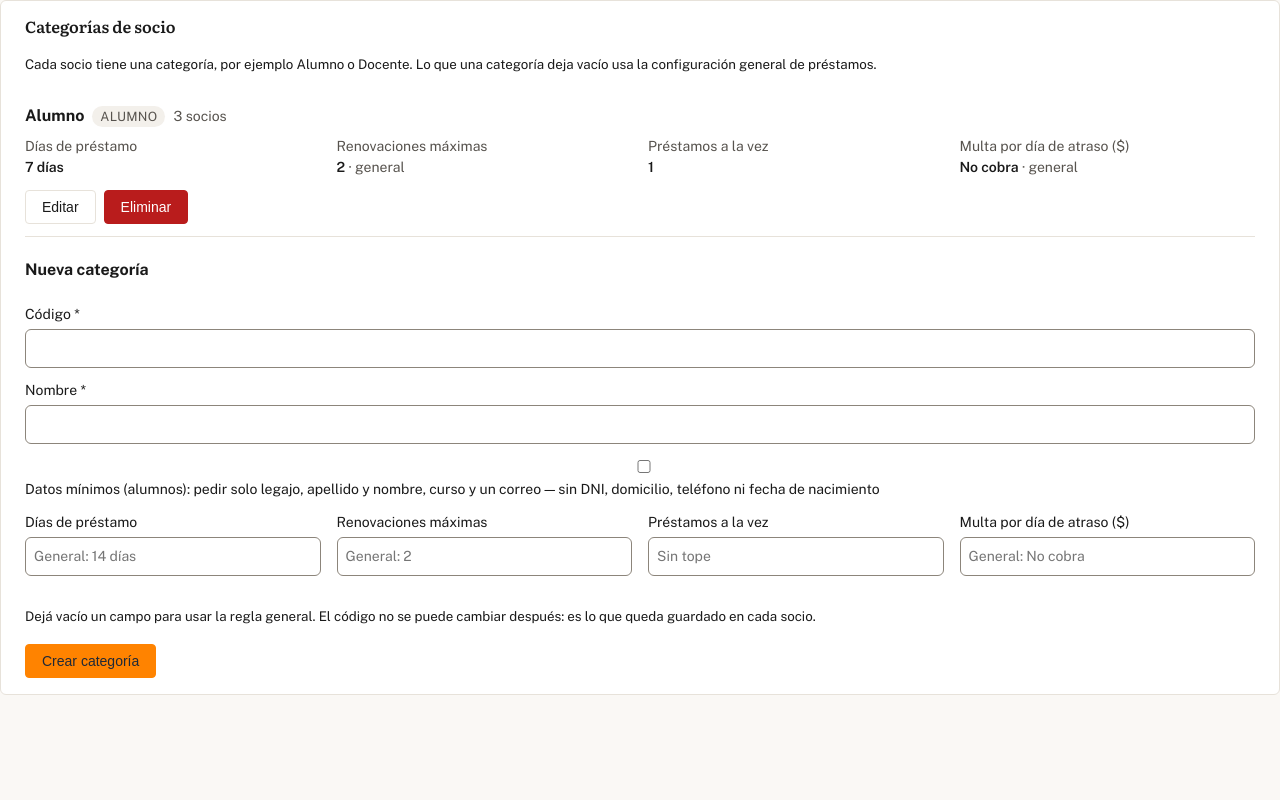
Test case: CategoriasSocios › crea una categoría mandando null en lo que se deja vacío
Expected: the text "3 socios" is shown, [173, 106, 227, 127]
Type "preceptor" into the field labelled "Código *" at (640, 348), box [25, 329, 1255, 368]
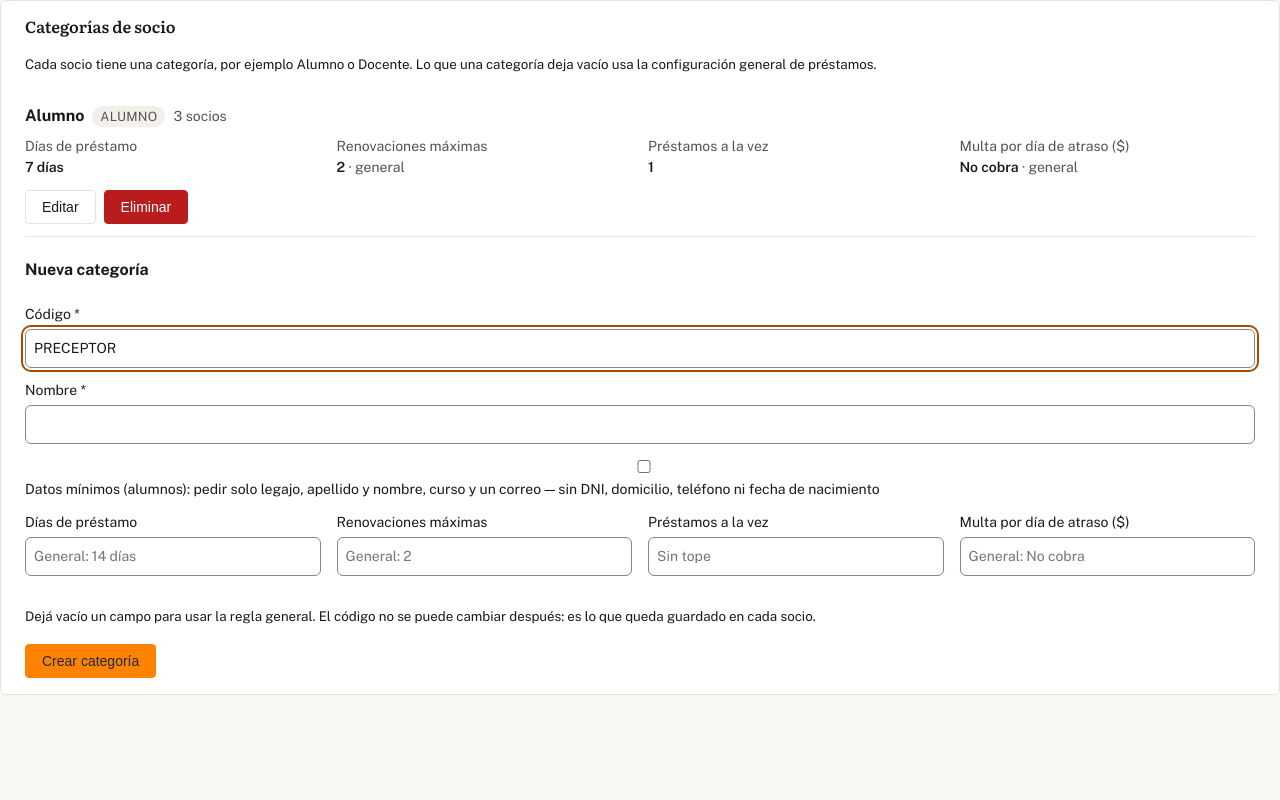
Type "Preceptor" into the field labelled "Nombre *" at (640, 424), box [25, 405, 1255, 444]
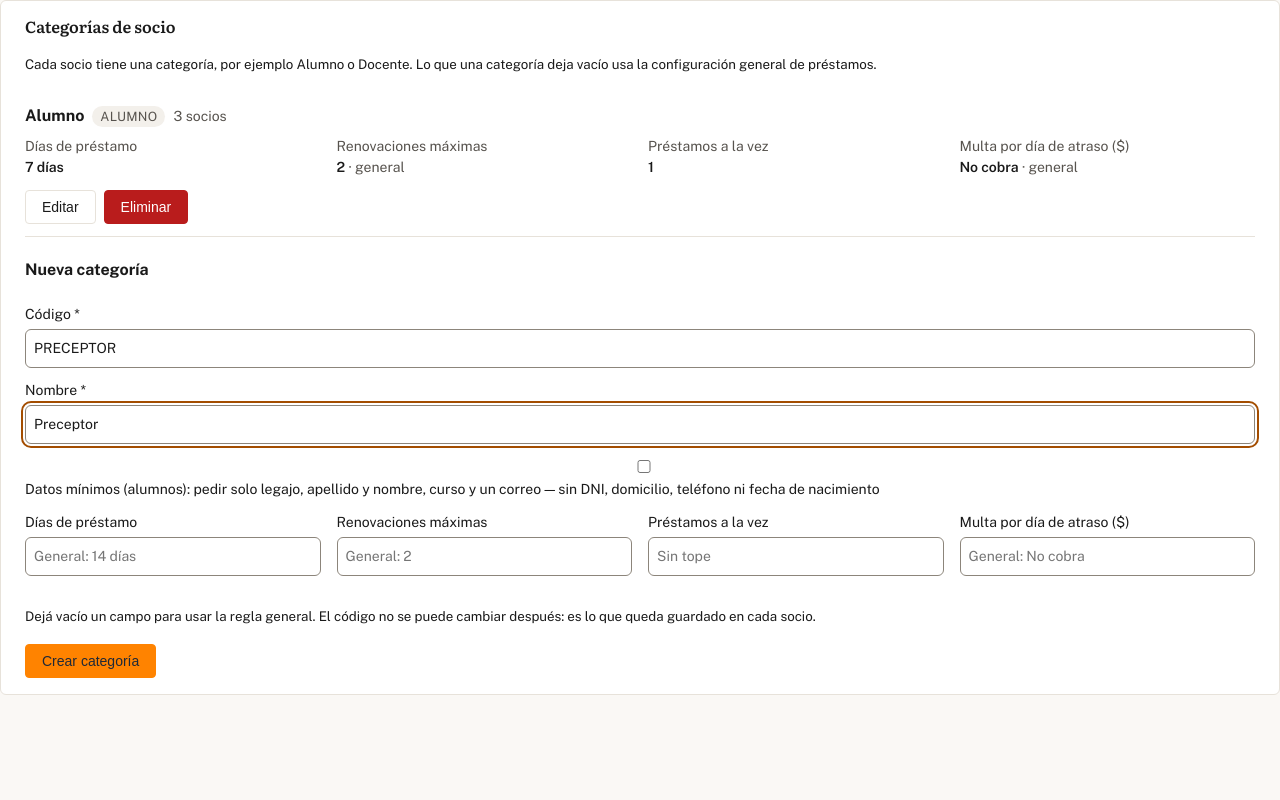
Type "4" into the number field labelled "Préstamos a la vez" at (796, 556), box [648, 537, 944, 576]
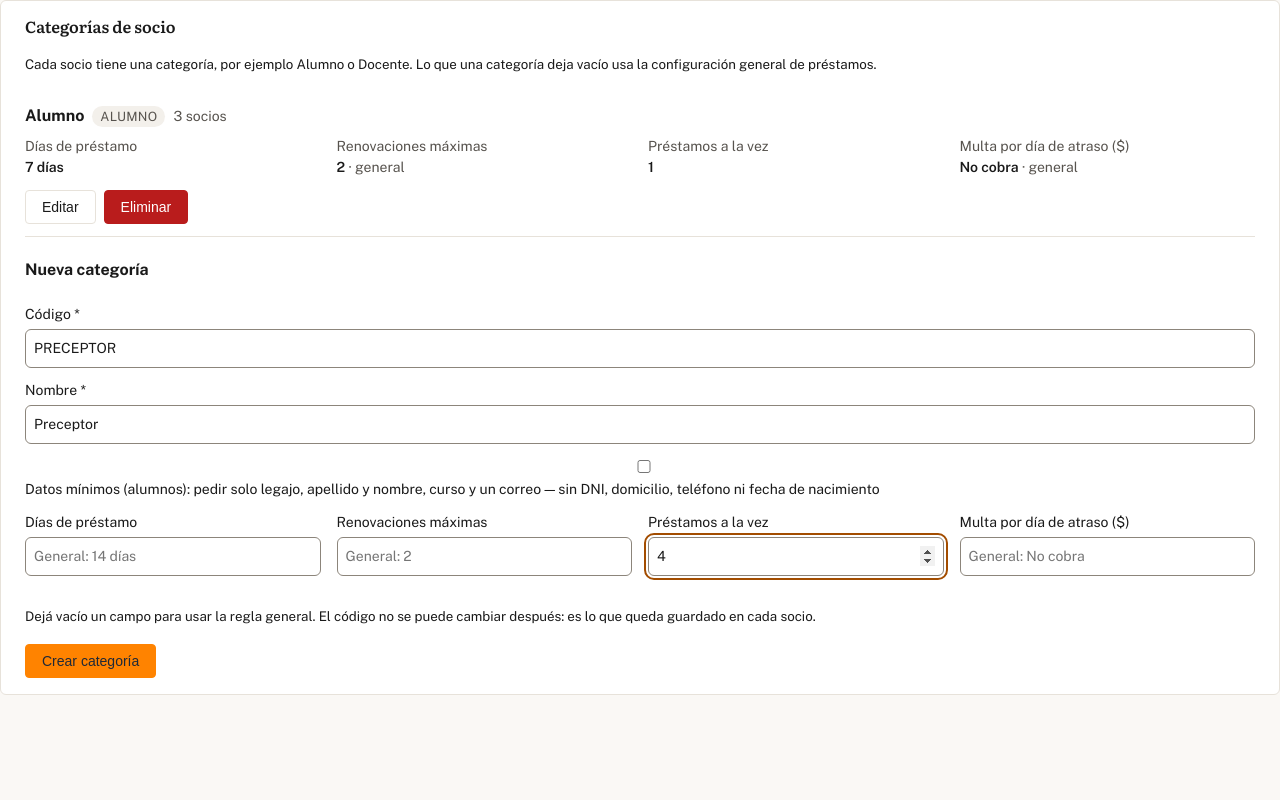
Click the button "Crear categoría" at (91, 661), box [25, 644, 156, 678]
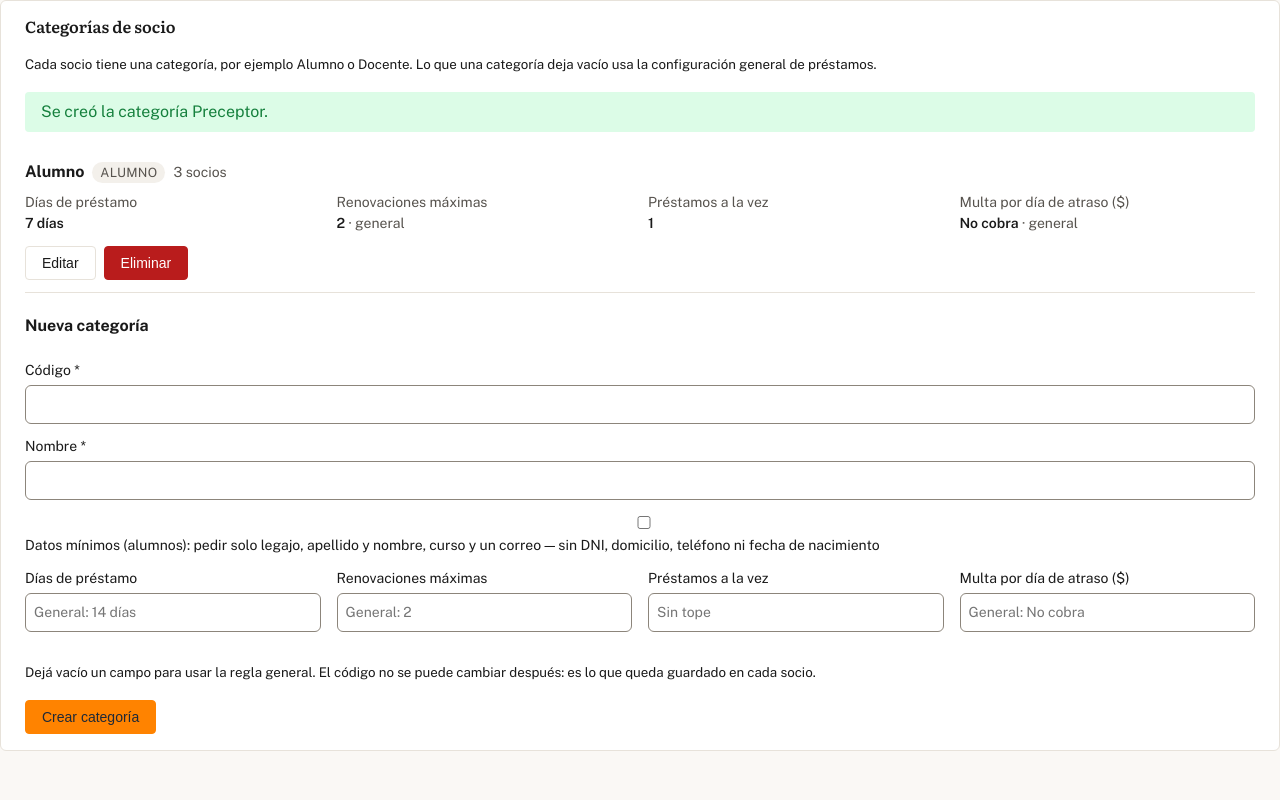
Now the message reads "Se creó la categoría Preceptor.", box [41, 102, 268, 121]
